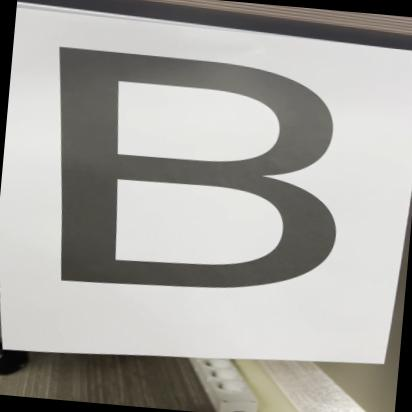seat: (23, 33, 369, 316)
